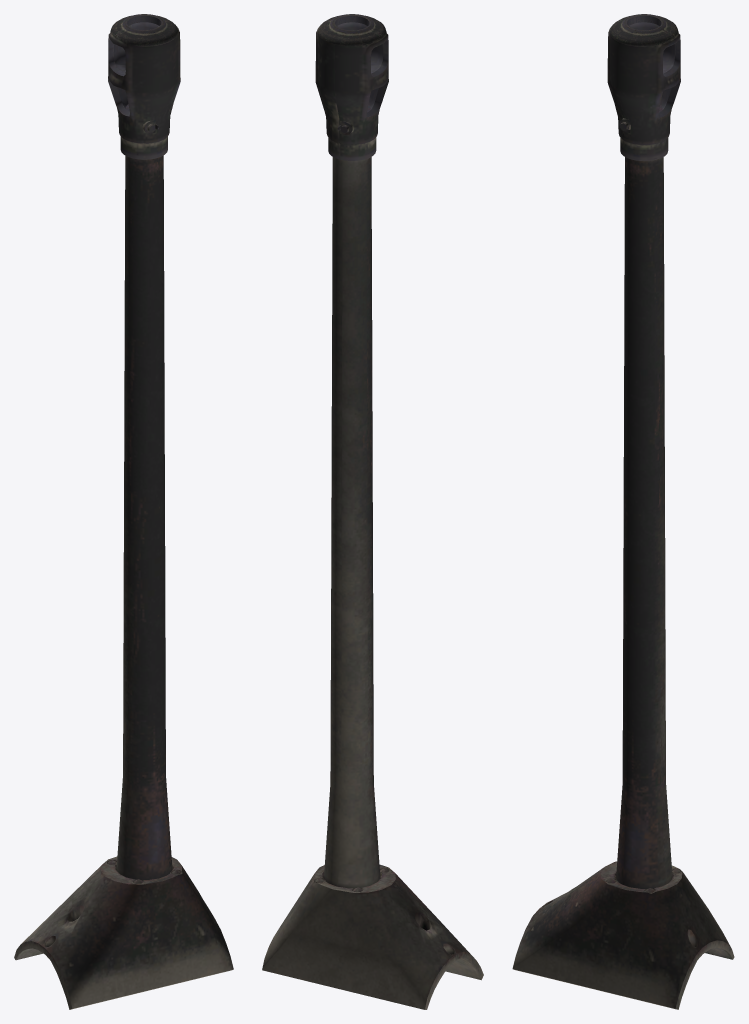
The model's file is Gun_01.glb.
3 renders of one model, left to right at view 1: azimuth 30°, elevation 25°; view 2: azimuth 150°, elevation 25°; view 3: azimuth 330°, elevation 25°, orthographic.
Parts seen in each view (by area): view 1: set_0_group_0; view 2: set_0_group_0; view 3: set_0_group_0.
Part boxes in pixels (left/top/right/bottom): set_0_group_0: left=14, top=14, right=233, bottom=1009; set_0_group_0: left=262, top=14, right=483, bottom=1009; set_0_group_0: left=512, top=14, right=734, bottom=1009.
Bounding box in the file's own units: 0.8329 × 4.61 × 0.5189.
1 material, 1 textured.
